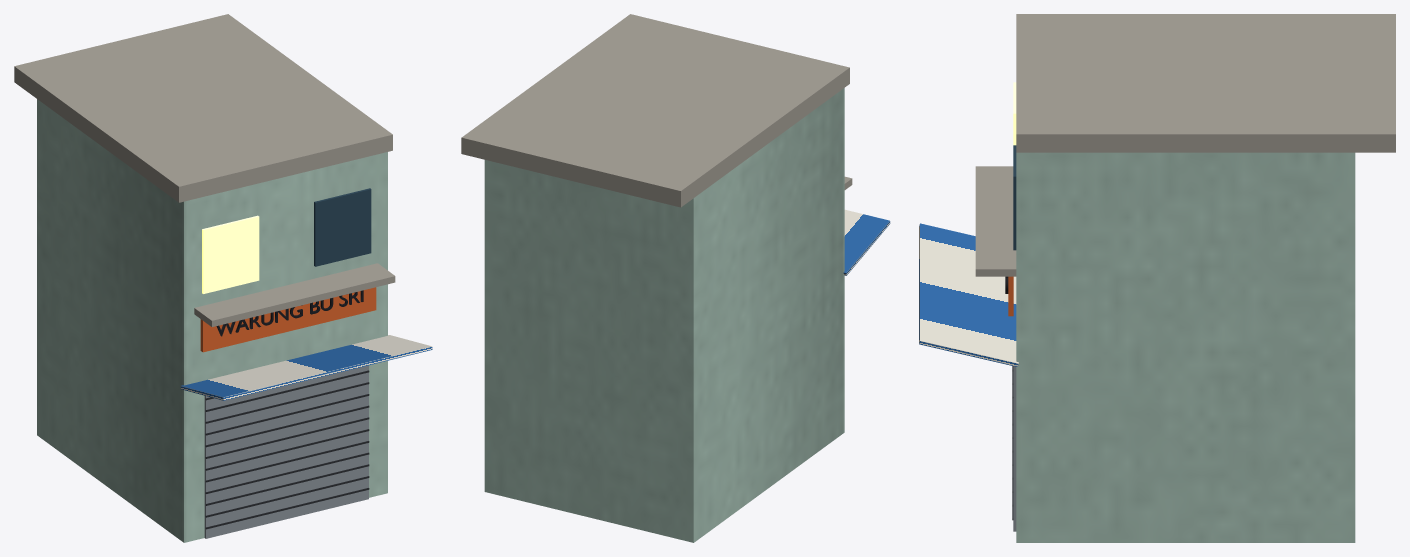
The model's file is prop_ruko_b.glb.
3 renders of one model, left to right at view 1: azimuth 30°, elevation 25°; view 2: azimuth 150°, elevation 25°; view 3: azimuth 270°, elevation 25°, orthographic. The views are drawn at different scales.
Parts seen in each view (by area): view 1: ruko_b; view 2: ruko_b; view 3: ruko_b.
Boxes of the visible parts, x1,y1,x2,y2 form: ruko_b: (14,14,432,542); ruko_b: (461,14,890,542); ruko_b: (919,14,1395,542).
Bounding box in the file's own units: 4.2 × 6.7 × 7.03.
9 materials, 2 textured.
